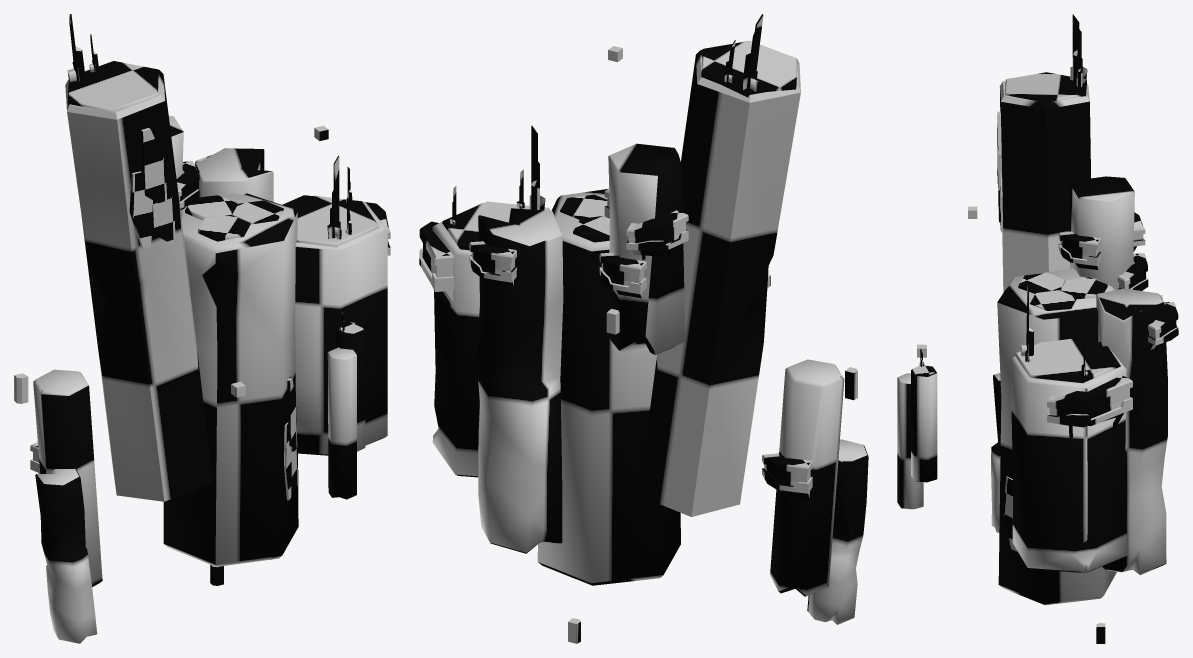
The model's file is streuner_blockzone02.obj.
3 renders of one model, left to right at view 1: azimuth 30°, elevation 25°; view 2: azimuth 150°, elevation 25°; view 3: azimuth 270°, elevation 25°, orthographic. The views are drawn at different scales.
Visible parts, largest first — view 1: ingame; view 2: ingame; view 3: ingame.
Boxes of the visible parts, box(x1,y1,x2,y2) form: ingame: box(14, 14, 390, 643); ingame: box(419, 14, 868, 643); ingame: box(897, 14, 1178, 643).
Size of the model in its own units: 566 by 867 by 397.
1 material, 1 textured.
